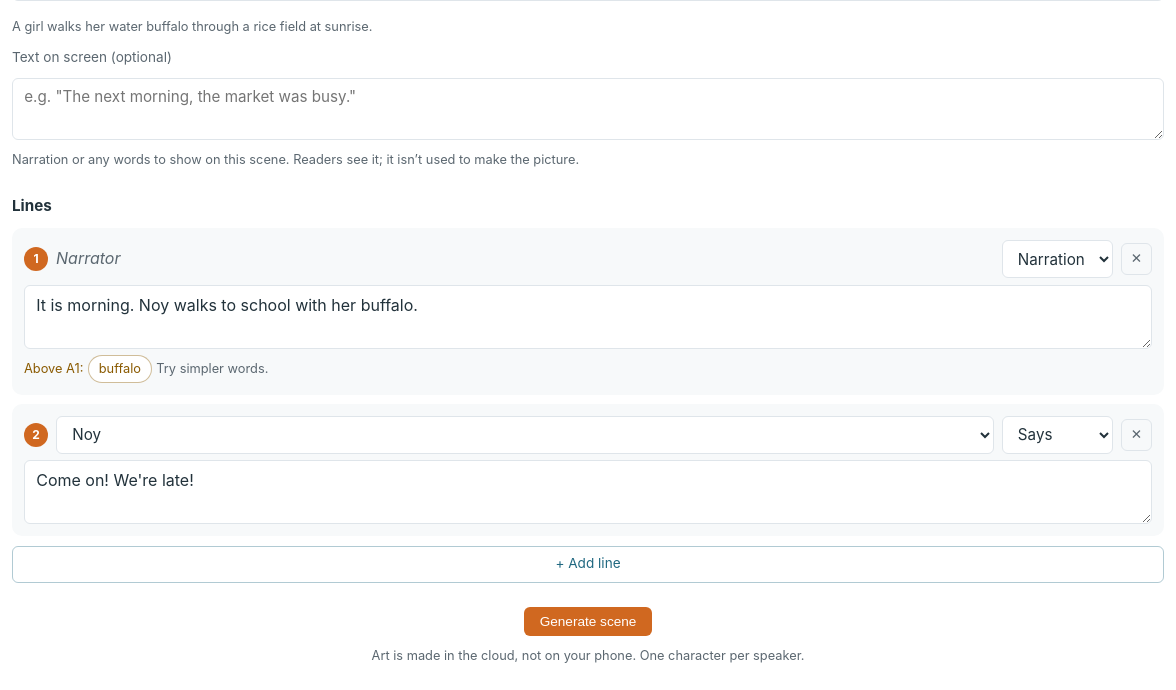
Test case: Studio (writing only, on this device) › has no panel or audio tools, and says illustrations aren’t on yet
(page scrolled)
Expected: the text box showing "It is morning. Noy walks to school with her buffalo." is shown, [24,285,1152,349]
Click the button "Generate scene" at point(588, 621), box [524,606,652,636]
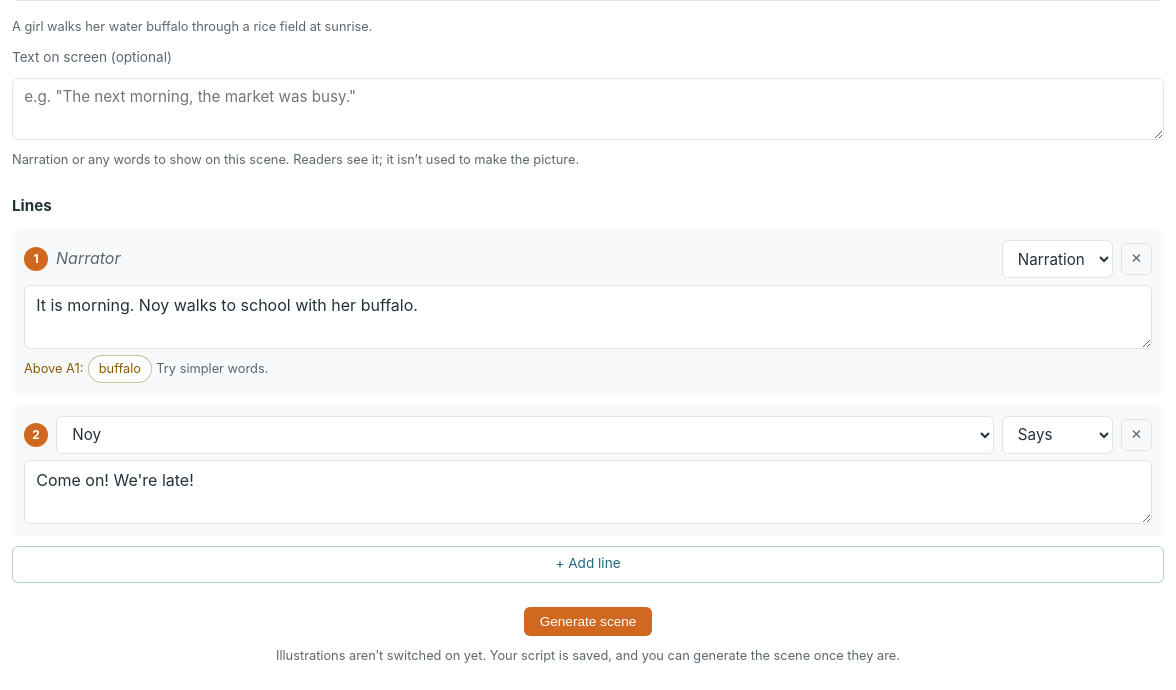
Now the text "Illustrations aren’t switched on yet" is shown, box [276,648,900,662]
